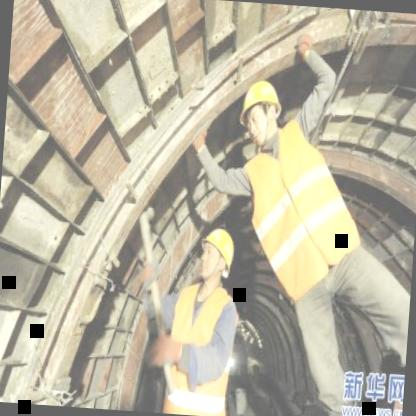helmet: (236, 73, 287, 149), (194, 222, 238, 285)
